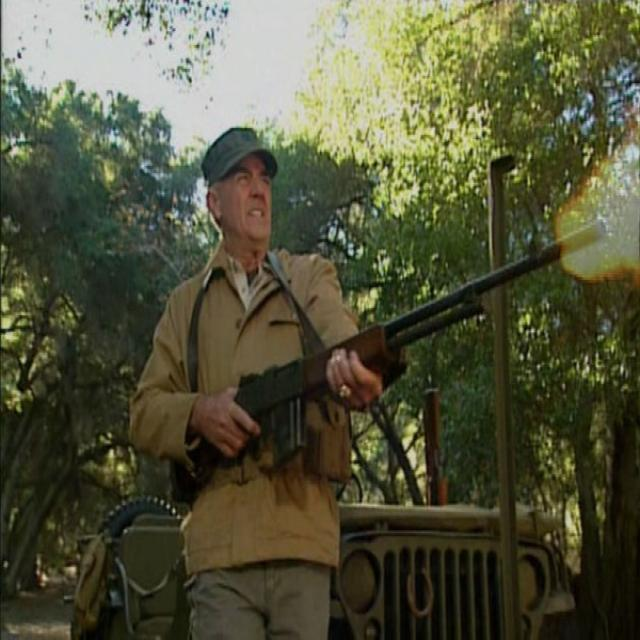rifle: (193, 210, 615, 478)
